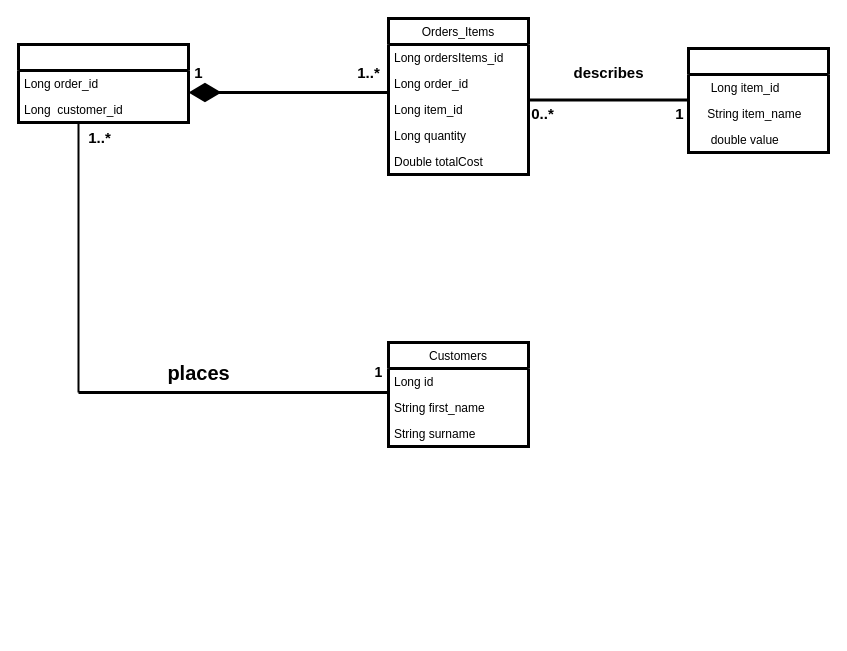
Image size: 847x651. Some labels were removed from this diagram. The box of each missing label's shape, as (x1, y1, x2, y2) in pixels:
Items: (686, 46, 830, 154)
Orders: (16, 42, 190, 124)
